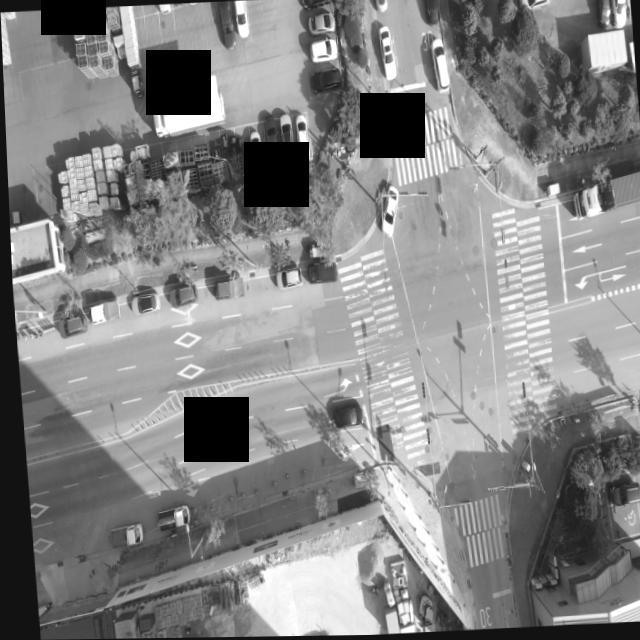car: (375, 185, 398, 237), (427, 37, 445, 92), (602, 481, 635, 508), (306, 65, 338, 92), (300, 260, 334, 285), (326, 404, 358, 429), (263, 114, 279, 164), (378, 25, 393, 78), (125, 289, 156, 314), (276, 112, 292, 160), (290, 115, 306, 161), (53, 313, 83, 337), (270, 265, 299, 289), (165, 283, 193, 306), (215, 1, 230, 43), (306, 37, 333, 60), (305, 12, 331, 33), (515, 0, 553, 14), (234, 0, 248, 37), (247, 130, 260, 166), (610, 0, 627, 27), (595, 0, 611, 27), (422, 0, 436, 26), (299, 0, 327, 9), (374, 0, 388, 11), (156, 4, 170, 13)
large_truck: (567, 168, 640, 219)
medium_truck: (149, 70, 226, 134)
small_truck: (81, 296, 116, 325), (208, 275, 242, 301), (102, 522, 136, 548), (150, 502, 185, 527)
